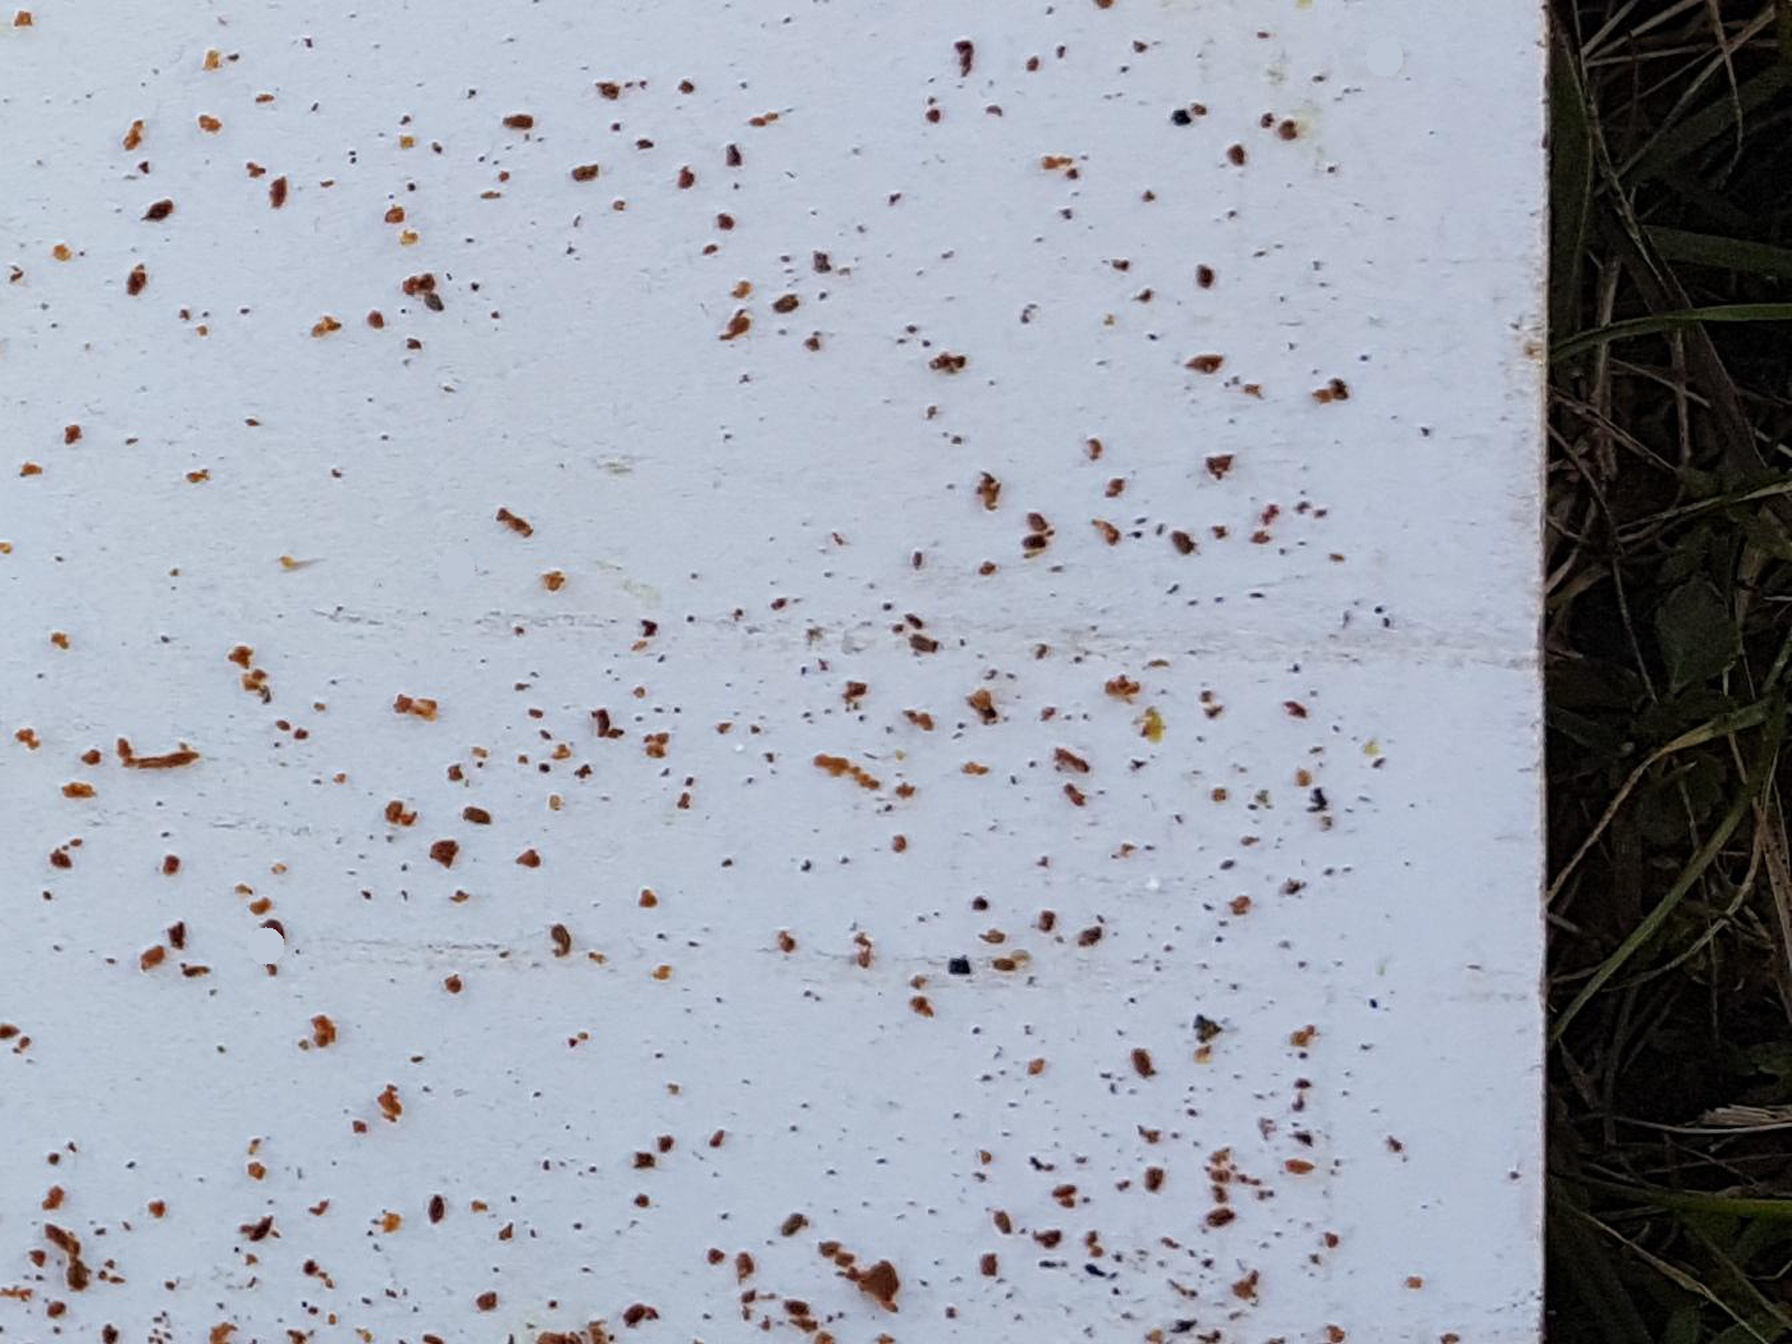Varroa: (415, 1186, 450, 1220), (268, 922, 292, 949)
